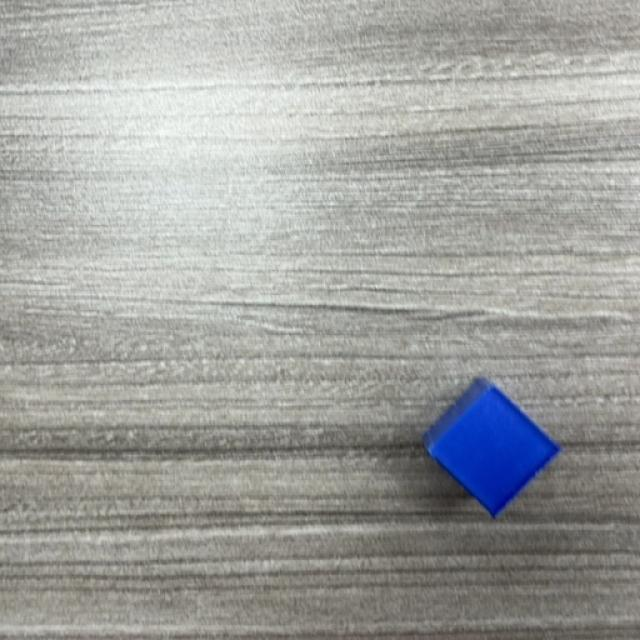Azul: (422, 379, 562, 521)
